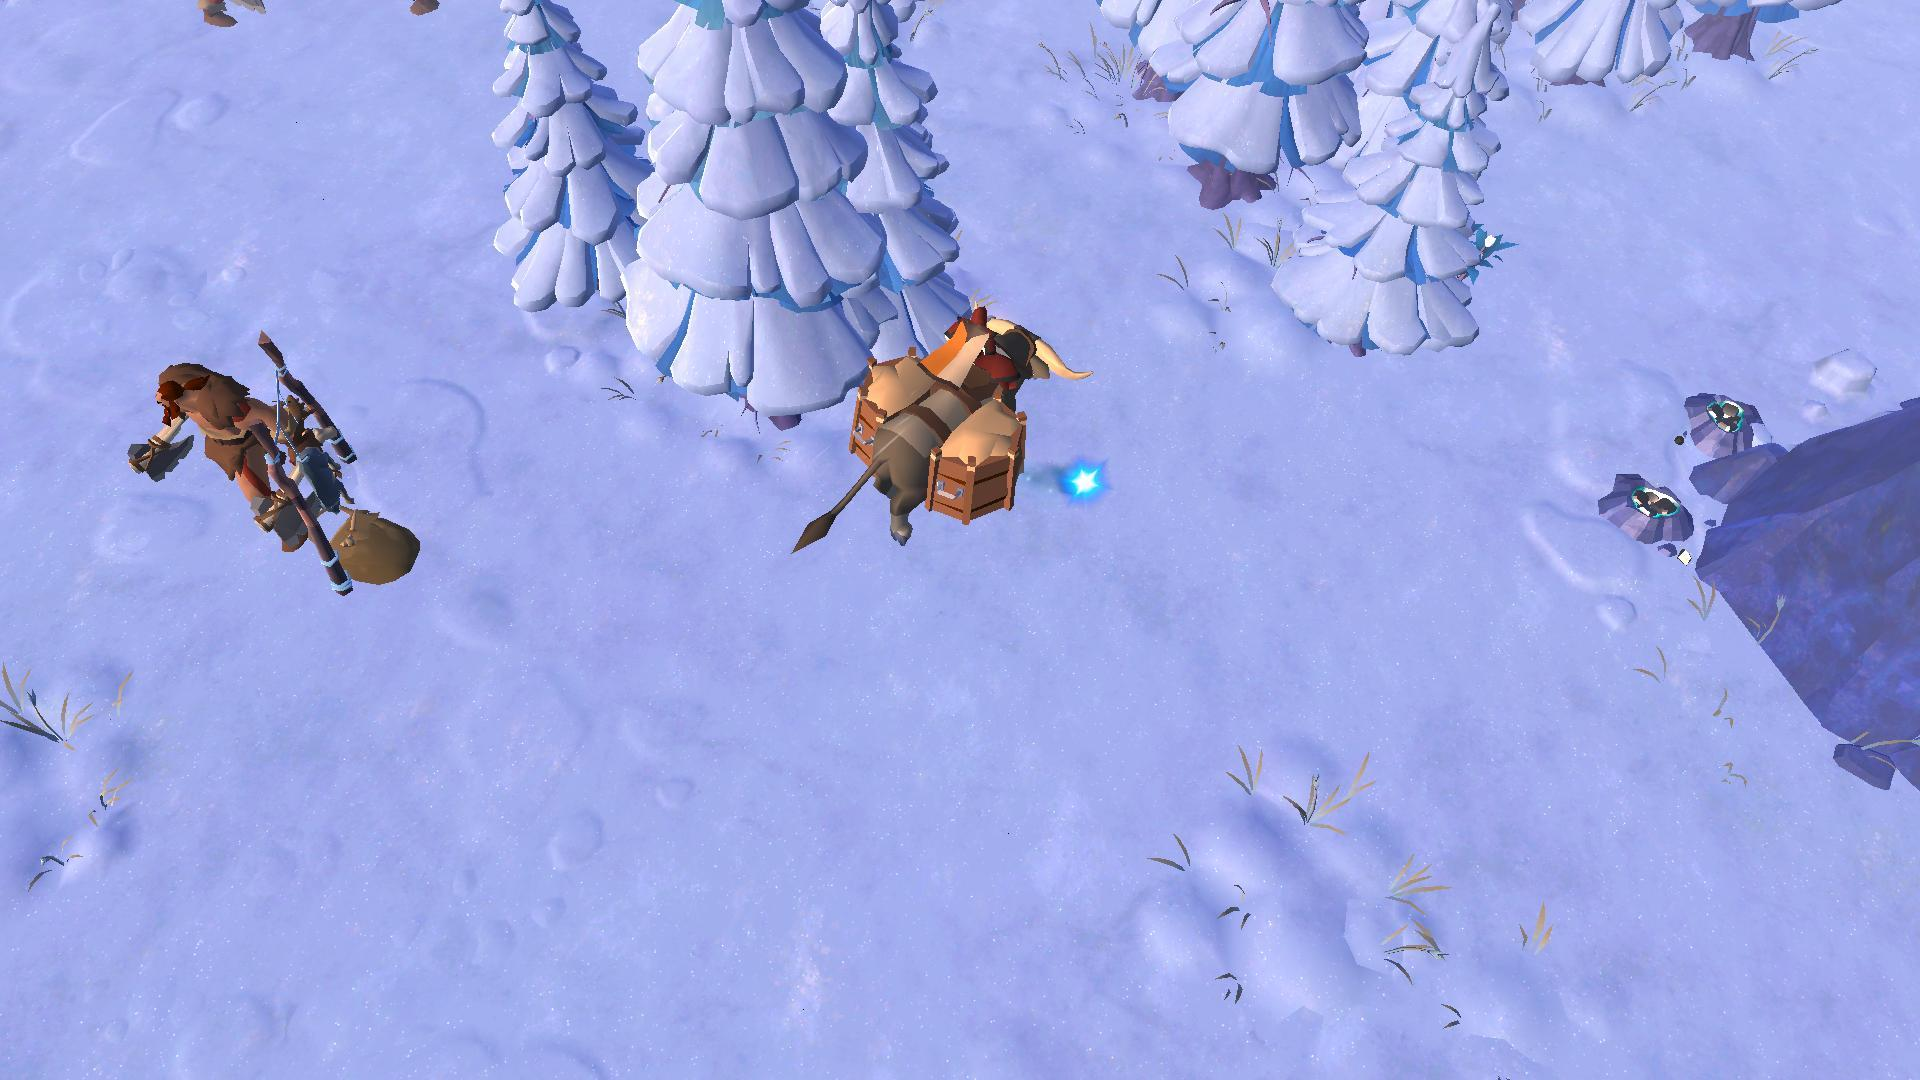enemy_factionKeeper: (125, 353, 311, 538)
